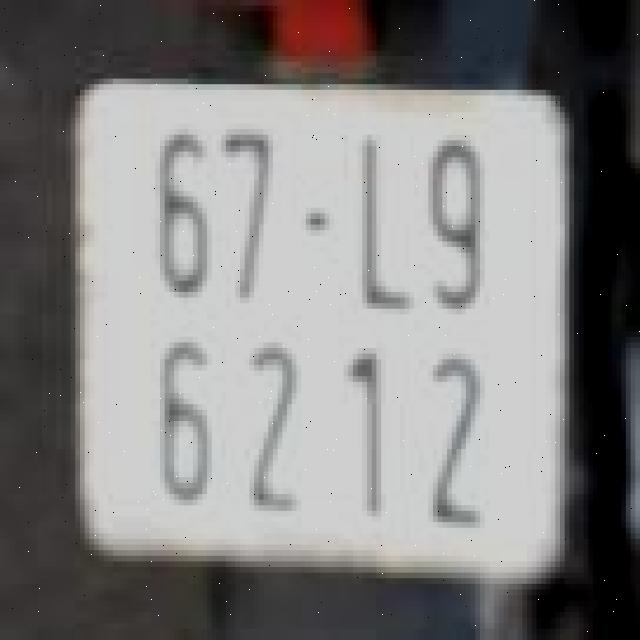1: (337, 342, 398, 528)
2: (416, 340, 511, 536), (240, 340, 320, 525)
6: (148, 331, 219, 517), (146, 127, 216, 300)
7: (221, 126, 278, 306)
9: (419, 124, 499, 326)
L: (346, 132, 416, 317)
